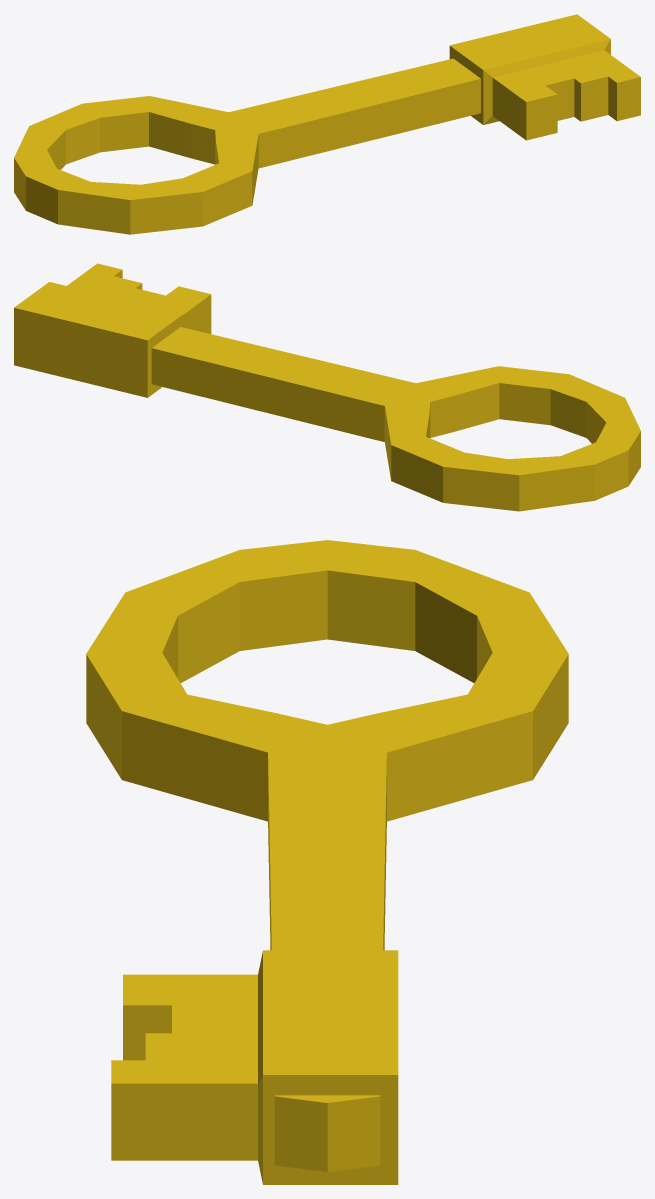
Rendered from Key.fbx.
The picture shows the model from 3 angles, top to bottom: view 1: azimuth 30°, elevation 25°; view 2: azimuth 150°, elevation 25°; view 3: azimuth 270°, elevation 25°; orthographic projection. The views are drawn at different scales.
Visible parts, largest first — view 1: Cube, Cube.001; view 2: Cube, Cube.001; view 3: Cube, Cube.001.
Part boxes in pixels (x1=…): Cube: x1=14, y1=58, x2=480, y2=234; Cube.001: x1=449, y1=14, x2=640, y2=140; Cube: x1=151, y1=327, x2=640, y2=511; Cube.001: x1=14, y1=263, x2=211, y2=397; Cube: x1=86, y1=540, x2=568, y2=1171; Cube.001: x1=111, y1=950, x2=398, y2=1184.
Size of the model in its own units: 350 by 31.86 by 127.
